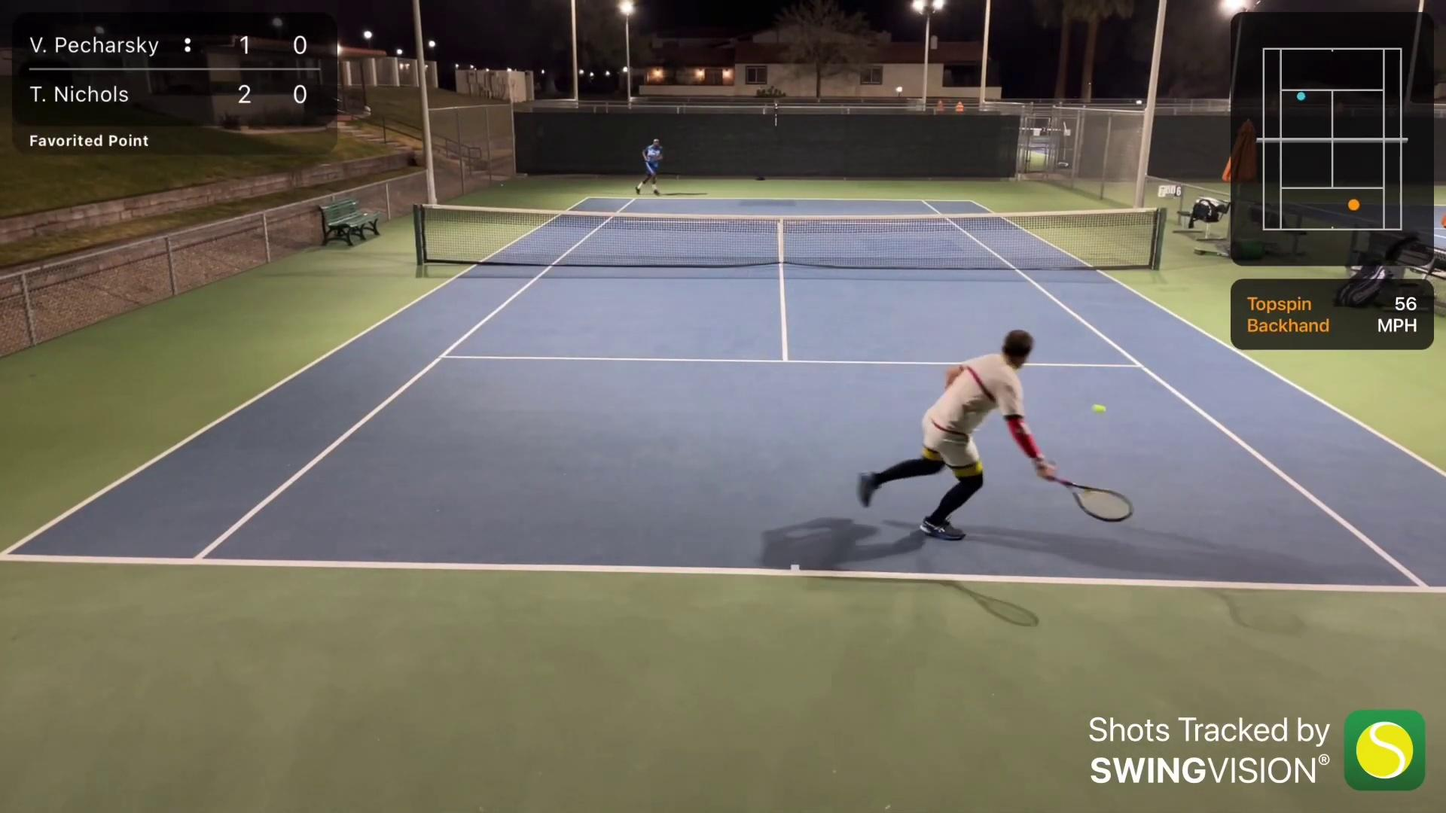ball: (1093, 399, 1109, 417)
